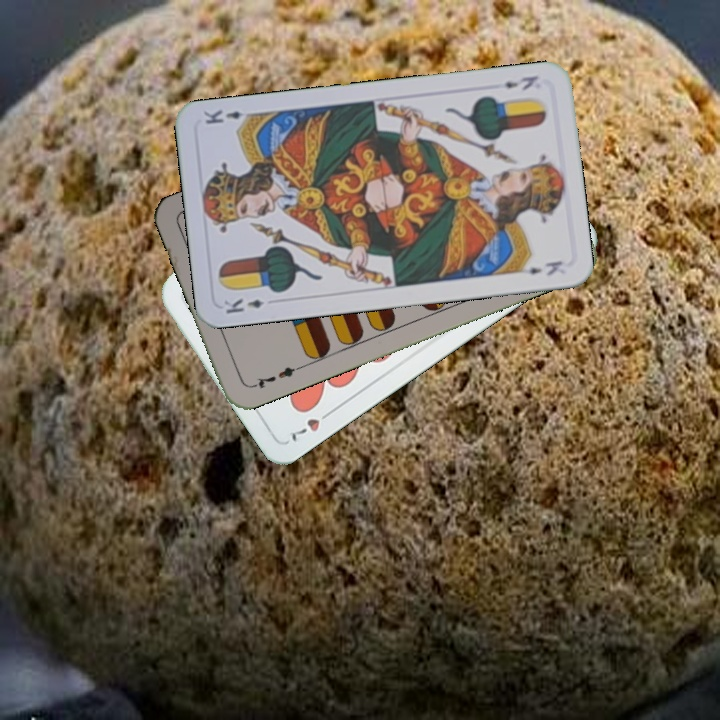E7: (247, 362, 304, 391)
EK: (220, 295, 266, 317), (500, 71, 541, 93)
H7: (284, 405, 336, 445)
